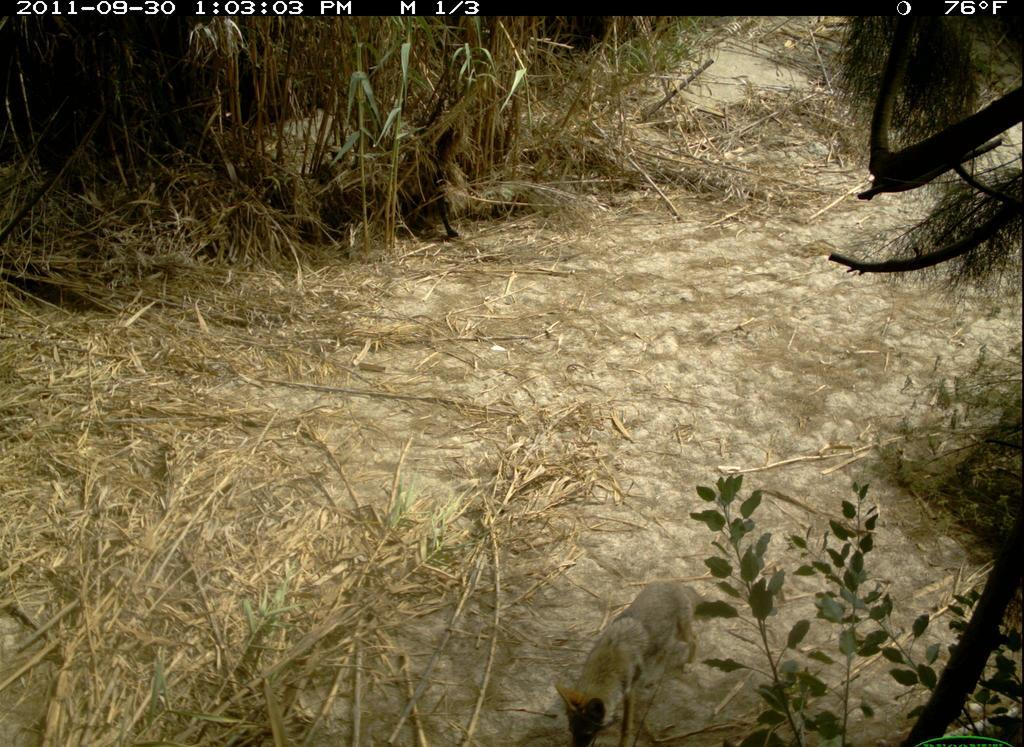coyote: (547, 574, 729, 740)
